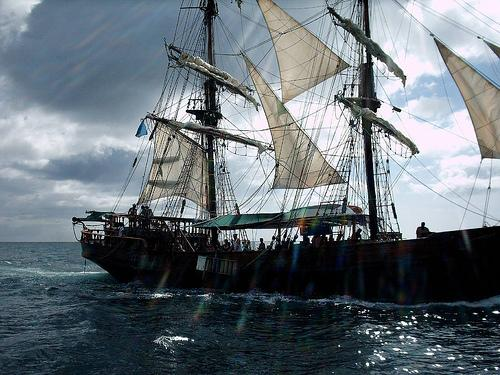Ship: (75, 1, 497, 297)
